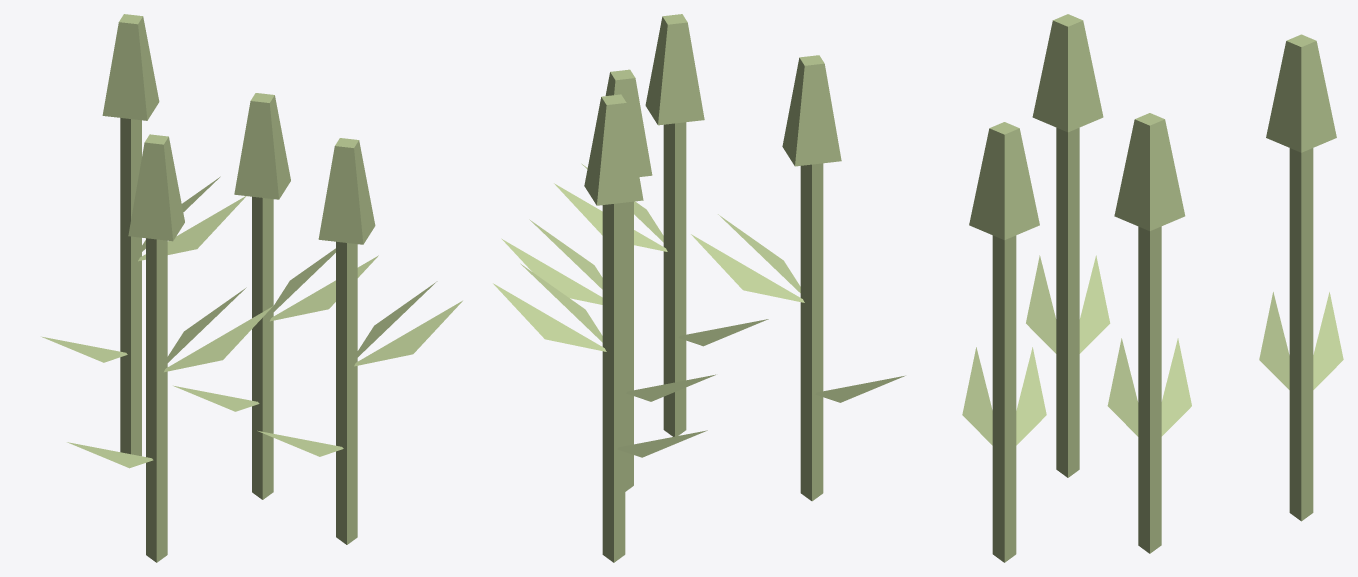
File: wheat-clump-green.glb
The picture shows the model from 3 angles, left to right: view 1: azimuth 30°, elevation 25°; view 2: azimuth 150°, elevation 25°; view 3: azimuth 270°, elevation 25°; orthographic projection. The views are drawn at different scales.
Visible parts, largest first — view 1: wheat-clump-green; view 2: wheat-clump-green; view 3: wheat-clump-green.
Boxes of the visible parts, x1=… form: wheat-clump-green: x1=41, y1=14, x2=462, y2=562; wheat-clump-green: x1=493, y1=14, x2=905, y2=562; wheat-clump-green: x1=962, y1=14, x2=1343, y2=562.
Bounding box in the file's own units: 0.8163 × 0.93 × 0.6769.
